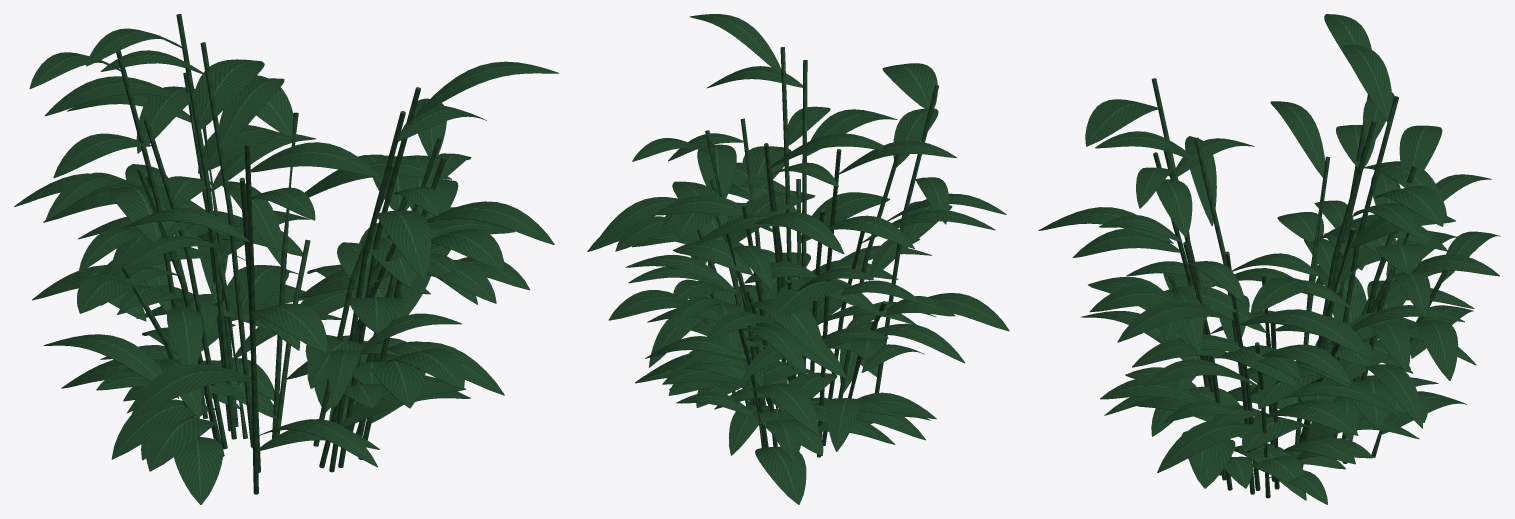
File: flora_bush_01.dae
3 views of the same model, side by side, from view 1: azimuth 30°, elevation 25°; view 2: azimuth 150°, elevation 25°; view 3: azimuth 270°, elevation 25° (orthographic). The views are drawn at different scales.
Visible parts, largest first — view 1: leaf; view 2: leaf; view 3: leaf.
Boxes of the visible parts, x1=… form: leaf: x1=14, y1=14, x2=558, y2=504; leaf: x1=587, y1=14, x2=1009, y2=504; leaf: x1=1038, y1=14, x2=1500, y2=504.
Size of the model in its own units: 104 by 105 by 91.56.
